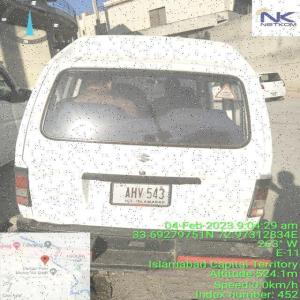Plate: (103, 177, 179, 212)
